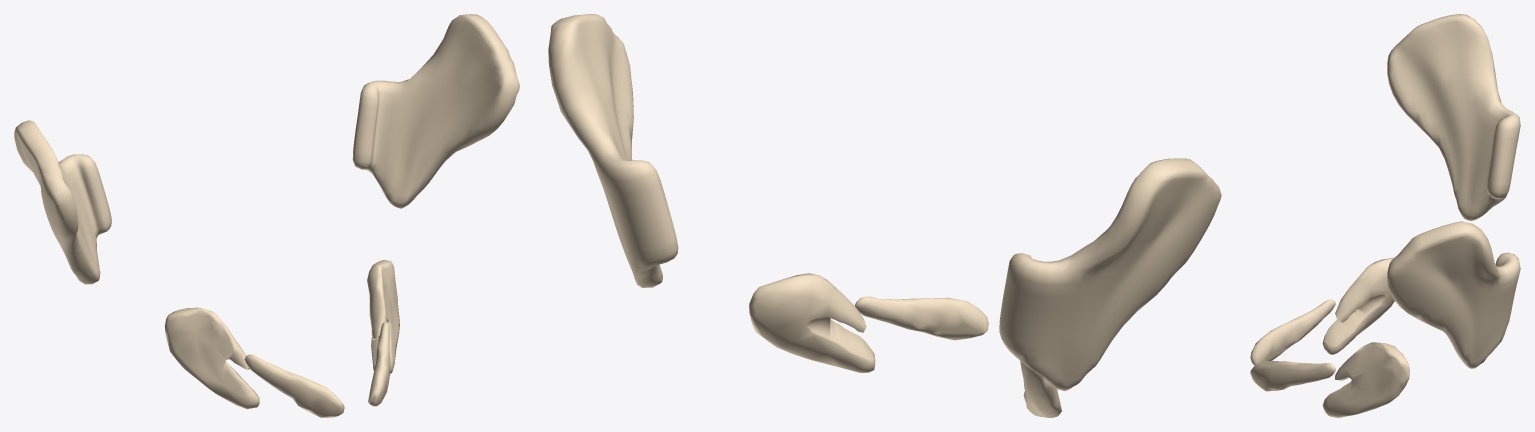
The model's file is ghiandole-salivari-test.glb.
3 views of the same model, side by side, from view 1: azimuth 30°, elevation 25°; view 2: azimuth 150°, elevation 25°; view 3: azimuth 270°, elevation 25° (orthographic). The views are drawn at different scales.
Parts seen in each view (by area): view 1: Parotid gland.l, Parotid gland.r, Submandibular gland.r, Sublingual gland.r, Submandibular gland.l, Sublingual gland.l; view 2: Parotid gland.r, Parotid gland.l, Submandibular gland.l, Sublingual gland.l, Submandibular gland.r; view 3: Parotid gland.r, Parotid gland.l, Submandibular gland.l, Submandibular gland.r, Sublingual gland.r, Sublingual gland.l.
Boxes of the visible parts, x1,y1,x2,y2 form: Parotid gland.l: (352,14,519,208); Parotid gland.r: (14,120,111,284); Submandibular gland.r: (164,307,259,409); Sublingual gland.r: (244,354,344,417); Submandibular gland.l: (367,260,399,373); Sublingual gland.l: (368,322,390,406); Parotid gland.r: (999,158,1221,391); Parotid gland.l: (548,14,678,287); Submandibular gland.l: (749,273,875,372); Sublingual gland.l: (855,296,988,340); Submandibular gland.r: (1020,361,1061,417); Parotid gland.r: (1387,14,1520,220); Parotid gland.l: (1387,221,1520,368); Submandibular gland.l: (1322,342,1409,417); Submandibular gland.r: (1322,257,1394,354); Sublingual gland.r: (1250,299,1335,365); Sublingual gland.l: (1250,361,1335,391).
Size of the model in its own units: 0.13 by 0.0725 by 0.067.
